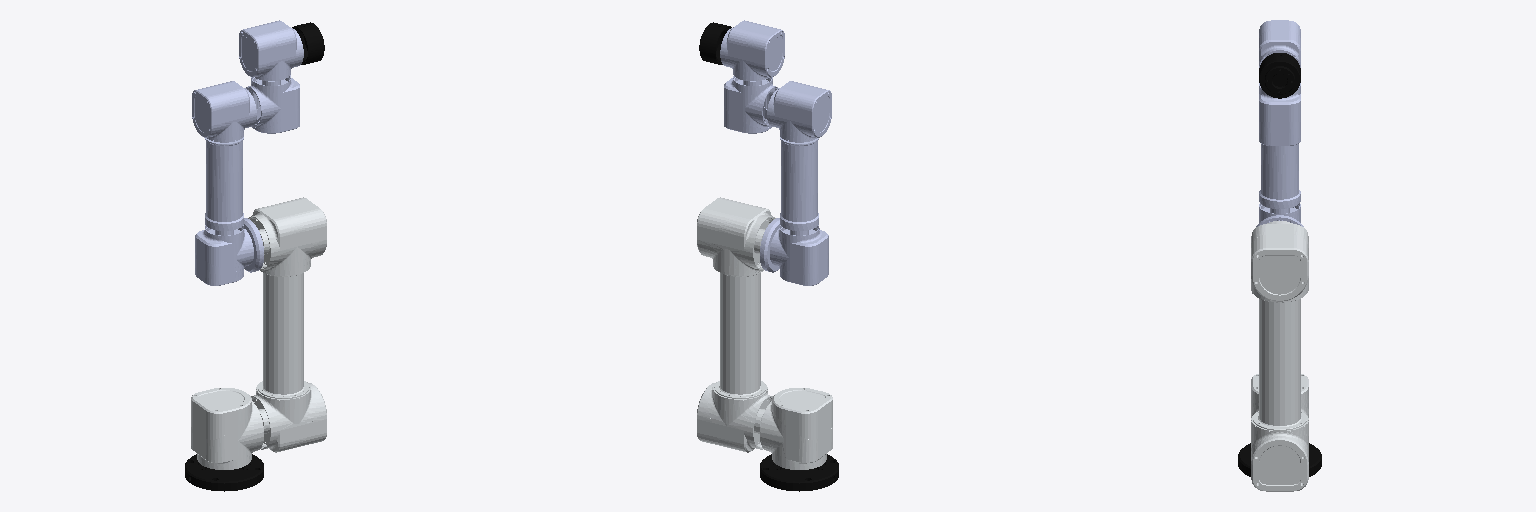
URDF robot description (OUR-I):
<robot
  name="OUR-I">
  <link
    name="base_link">
    <inertial>
      <origin
        xyz="0.000843510816532864 3.33577869448374E-11 0.00987919499672938"
        rpy="0 0 0" />
      <mass
        value="1.00385944508189" />
      <inertia
        ixx="0.00230775779899907"
        ixy="1.13836751459967E-10"
        ixz="9.49187005654923E-07"
        iyy="0.00225058374670214"
        iyz="-2.53420316292721E-11"
        izz="0.00447848391555534" />
    </inertial>
    <visual>
      <origin
        xyz="0 0 0"
        rpy="0 0 0" />
      <geometry>
        <mesh
          filename="package://OUR-I/meshes/base_link.STL" />
      </geometry>
      <material
        name="">
        <color
          rgba="0.0980392156862745 0.0980392156862745 0.0980392156862745 1" />
      </material>
    </visual>
    <collision>
      <origin
        xyz="0 0 0"
        rpy="0 0 0" />
      <geometry>
        <mesh
          filename="package://OUR-I/meshes/base_link.STL" />
      </geometry>
    </collision>
  </link>
  <link
    name="link1">
    <inertial>
      <origin
        xyz="0.00025853 -4.0264E-05 9.0303E-05"
        rpy="0 0 0" />
      <mass
        value="1.0631" />
      <inertia
        ixx="0.0038183"
        ixy="-3.5649E-08"
        ixz="-3.6423E-05"
        iyy="0.0036415"
        iyz="-6.5721E-07"
        izz="0.0035726" />
    </inertial>
    <visual>
      <origin
        xyz="0 0 0"
        rpy="0 0 0" />
      <geometry>
        <mesh
          filename="package://OUR-I/meshes/link1.STL" />
      </geometry>
      <material
        name="">
        <color
          rgba="0.89412 0.91373 0.92941 1" />
      </material>
    </visual>
    <collision>
      <origin
        xyz="0 0 0"
        rpy="0 0 0" />
      <geometry>
        <mesh
          filename="package://OUR-I/meshes/link1.STL" />
      </geometry>
    </collision>
  </link>
  <joint
    name="joint1"
    type="revolute">
    <origin
      xyz="0 0 0.10397"
      rpy="1.6634E-16 3.4934E-15 1.2011E-16" />
    <parent
      link="base_link" />
    <child
      link="link1" />
    <axis
      xyz="0 0 1" />
    <limit
      lower="-3.0543"
      upper="3.0543"
      effort="50"
      velocity="50" />
  </joint>
  <link
    name="link2">
    <inertial>
      <origin
        xyz="0.030564 4.0092E-05 0.21353"
        rpy="0 0 0" />
      <mass
        value="3.0132" />
      <inertia
        ixx="0.11455"
        ixy="-3.9685E-19"
        ixz="5.0003E-16"
        iyy="0.11468"
        iyz="8.6272E-09"
        izz="0.0093722" />
    </inertial>
    <visual>
      <origin
        xyz="0 0 0"
        rpy="0 0 0" />
      <geometry>
        <mesh
          filename="package://OUR-I/meshes/link2.STL" />
      </geometry>
      <material
        name="">
        <color
          rgba="0.89412 0.91373 0.92941 1" />
      </material>
    </visual>
    <collision>
      <origin
        xyz="0 0 0"
        rpy="0 0 0" />
      <geometry>
        <mesh
          filename="package://OUR-I/meshes/link2.STL" />
      </geometry>
    </collision>
  </link>
  <joint
    name="joint2"
    type="revolute">
    <origin
      xyz="0.11653 -8.0183E-05 0"
      rpy="-2.9818E-16 -3.6119E-15 -4.3321E-16" />
    <parent
      link="link1" />
    <child
      link="link2" />
    <axis
      xyz="1 0 0" />
    <limit
      lower="-3.0543"
      upper="3.0543"
      effort="50"
      velocity="50" />
  </joint>
  <link
    name="link3">
    <inertial>
      <origin
        xyz="-0.11198 -4.0014E-05 0.1529"
        rpy="0 0 0" />
      <mass
        value="1.8973" />
      <inertia
        ixx="0.038764"
        ixy="-3.3678E-07"
        ixz="-0.00092149"
        iyy="0.039369"
        iyz="-1.8044E-09"
        izz="0.0037998" />
    </inertial>
    <visual>
      <origin
        xyz="0 0 0"
        rpy="0 0 0" />
      <geometry>
        <mesh
          filename="package://OUR-I/meshes/link3.STL" />
      </geometry>
      <material
        name="">
        <color
          rgba="0.79216 0.81961 0.93333 1" />
      </material>
    </visual>
    <collision>
      <origin
        xyz="0 0 0"
        rpy="0 0 0" />
      <geometry>
        <mesh
          filename="package://OUR-I/meshes/link3.STL" />
      </geometry>
    </collision>
  </link>
  <joint
    name="joint3"
    type="revolute">
    <origin
      xyz="0 8.0183E-05 0.42706"
      rpy="6.245E-17 7.3424E-15 3.131E-16" />
    <parent
      link="link2" />
    <child
      link="link3" />
    <axis
      xyz="1 0 0" />
    <limit
      lower="-3.0543"
      upper="3.0543"
      effort="50"
      velocity="50" />
  </joint>
  <link
    name="link4">
    <inertial>
      <origin
        xyz="0.0078368 -1.5069E-07 0.0025071"
        rpy="0 0 0" />
      <mass
        value="0.47472" />
      <inertia
        ixx="0.0010134"
        ixy="4.0161E-09"
        ixz="7.3001E-06"
        iyy="0.0010983"
        iyz="5.4472E-10"
        izz="0.00095166" />
    </inertial>
    <visual>
      <origin
        xyz="0 0 0"
        rpy="0 0 0" />
      <geometry>
        <mesh
          filename="package://OUR-I/meshes/link4.STL" />
      </geometry>
      <material
        name="">
        <color
          rgba="0.79216 0.81961 0.93333 1" />
      </material>
    </visual>
    <collision>
      <origin
        xyz="0 0 0"
        rpy="0 0 0" />
      <geometry>
        <mesh
          filename="package://OUR-I/meshes/link4.STL" />
      </geometry>
    </collision>
  </link>
  <joint
    name="joint4"
    type="revolute">
    <origin
      xyz="0 -4.0092E-05 0.32847"
      rpy="-6.245E-17 -7.5233E-15 -1.1874E-15" />
    <parent
      link="link3" />
    <child
      link="link4" />
    <axis
      xyz="1 0 0" />
    <limit
      lower="-3.0543"
      upper="3.0543"
      effort="50"
      velocity="50" />
  </joint>
  <link
    name="link5">
    <inertial>
      <origin
        xyz="0.0025071 1.5069E-07 0.12434"
        rpy="0 0 0" />
      <mass
        value="0.47472" />
      <inertia
        ixx="0.00095166"
        ixy="-5.4472E-10"
        ixz="7.3001E-06"
        iyy="0.0010983"
        iyz="-4.0161E-09"
        izz="0.0010134" />
    </inertial>
    <visual>
      <origin
        xyz="0 0 0"
        rpy="0 0 0" />
      <geometry>
        <mesh
          filename="package://OUR-I/meshes/link5.STL" />
      </geometry>
      <material
        name="">
        <color
          rgba="0.79216 0.81961 0.93333 1" />
      </material>
    </visual>
    <collision>
      <origin
        xyz="0 0 0"
        rpy="0 0 0" />
      <geometry>
        <mesh
          filename="package://OUR-I/meshes/link5.STL" />
      </geometry>
    </collision>
  </link>
  <joint
    name="joint5"
    type="revolute">
    <origin
      xyz="0 0 0"
      rpy="-1.0203E-32 0 0" />
    <parent
      link="link4" />
    <child
      link="link5" />
    <axis
      xyz="0 0 -1" />
    <limit
      lower="-3.0543"
      upper="3.0543"
      effort="50"
      velocity="50" />
  </joint>
  <link
    name="link6">
    <inertial>
      <origin
        xyz="0.096192 -3.2388E-05 -9.298E-05"
        rpy="0 0 0" />
      <mass
        value="0.24189" />
      <inertia
        ixx="0.00029991"
        ixy="-1.0462E-07"
        ixz="1.1547E-07"
        iyy="0.00019336"
        iyz="-1.4237E-07"
        izz="0.00019382" />
    </inertial>
    <visual>
      <origin
        xyz="0 0 0"
        rpy="0 0 0" />
      <geometry>
        <mesh
          filename="package://OUR-I/meshes/link6.STL" />
      </geometry>
      <material
        name="">
        <color
          rgba="0.098039 0.098039 0.098039 1" />
      </material>
    </visual>
    <collision>
      <origin
        xyz="0 0 0"
        rpy="0 0 0" />
      <geometry>
        <mesh
          filename="package://OUR-I/meshes/link6.STL" />
      </geometry>
    </collision>
  </link>
  <joint
    name="joint6"
    type="revolute">
    <origin
      xyz="0 0 0.1165"
      rpy="2.254E-31 1.8085E-16 1.3028E-15" />
    <parent
      link="link5" />
    <child
      link="link6" />
    <axis
      xyz="1 0 0" />
    <limit
      lower="-3.0543"
      upper="3.0543"
      effort="50"
      velocity="50" />
  </joint>
</robot>

--- Facts derived from the render (not from the file) ---
The picture shows the robot from 3 angles, left to right: view 1: azimuth 30°, elevation 25°; view 2: azimuth 150°, elevation 25°; view 3: azimuth 270°, elevation 25°; orthographic projection.
Robot: OUR-I — 7 links, 6 joints (6 revolute); root link base_link; default pose: every joint at zero.
Visible links, largest first — view 1: link2, link3, link1, link5, link4, base_link, link6; view 2: link2, link3, link1, link5, link4, base_link, link6; view 3: link2, link3, link4, link6, link5, base_link, link1.
Boxes of the visible links, x1=… form: link2: x1=248, y1=197, x2=326, y2=452; link3: x1=192, y1=81, x2=263, y2=285; link1: x1=191, y1=388, x2=263, y2=469; link5: x1=239, y1=20, x2=303, y2=80; link4: x1=246, y1=75, x2=299, y2=133; base_link: x1=185, y1=454, x2=263, y2=491; link6: x1=292, y1=22, x2=324, y2=64; link2: x1=697, y1=197, x2=775, y2=452; link3: x1=760, y1=81, x2=831, y2=285; link1: x1=760, y1=388, x2=832, y2=469; link5: x1=720, y1=20, x2=784, y2=80; link4: x1=724, y1=76, x2=777, y2=133; base_link: x1=760, y1=454, x2=838, y2=491; link6: x1=699, y1=22, x2=731, y2=64; link2: x1=1251, y1=221, x2=1308, y2=491; link3: x1=1256, y1=144, x2=1303, y2=226; link4: x1=1259, y1=83, x2=1300, y2=145; link6: x1=1259, y1=53, x2=1300, y2=98; link5: x1=1259, y1=20, x2=1300, y2=67; base_link: x1=1238, y1=443, x2=1321, y2=476; link1: x1=1251, y1=374, x2=1308, y2=417.
Bounding box of the posed robot: 0.3175 × 0.1719 × 1.03 m (x, y, z).
Meshes: 7 distinct files referenced, 7 mesh visuals loaded (7 binary STL).
